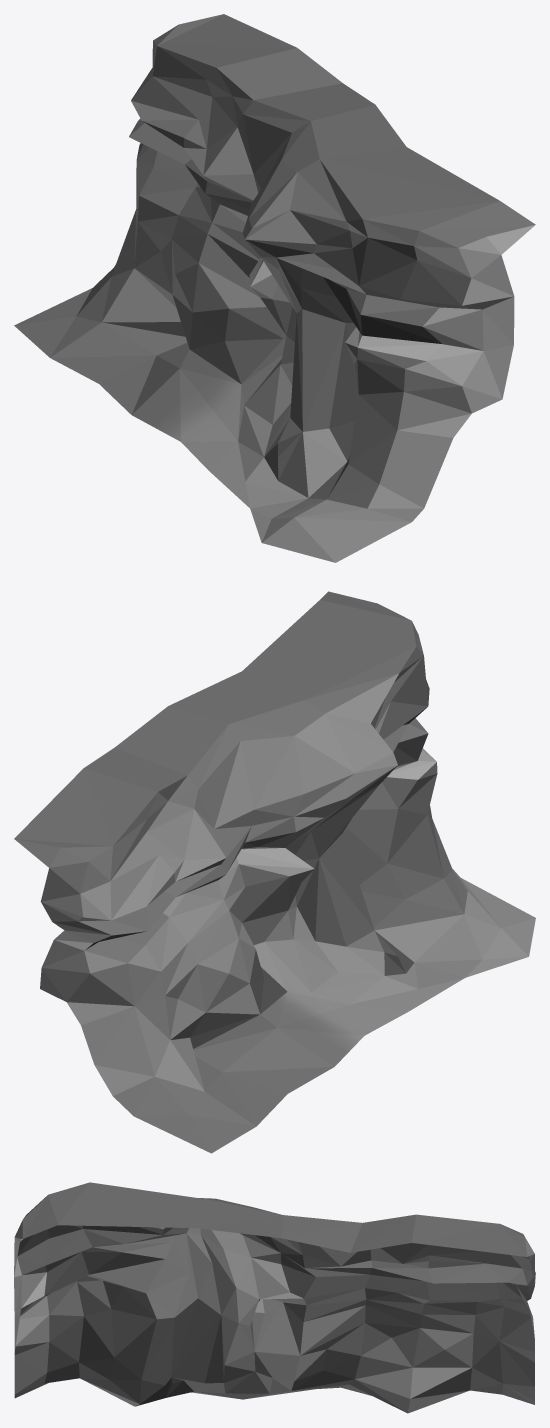
File: rock_3.fbx
3 views of the same model, one above another, from view 1: azimuth 30°, elevation 25°; view 2: azimuth 150°, elevation 25°; view 3: azimuth 270°, elevation 25° (orthographic). The views are drawn at different scales.
Visible parts, largest first — view 1: Object.015; view 2: Object.015; view 3: Object.015.
Part boxes in pixels (box(x1,y1,x2,y2)): Object.015: box(14, 14, 535, 562); Object.015: box(14, 591, 535, 1153); Object.015: box(14, 1182, 535, 1413).
Bounding box in the file's own units: 797 × 905 × 1795.
